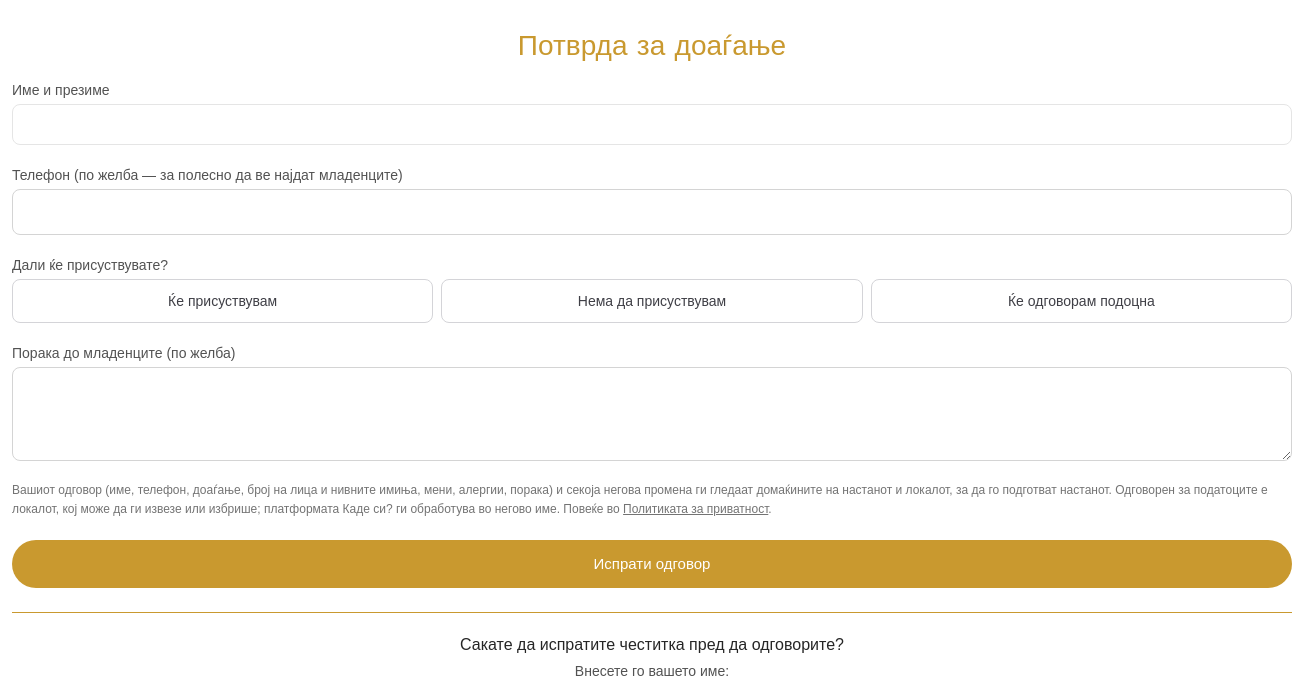
Test: greeting after the RSVP (0151) › asks for a message before sending
The image size is (1304, 693).
Type "Ана" into the field labelled "Име и презиме" at (652,124), box [12,104,1292,144]
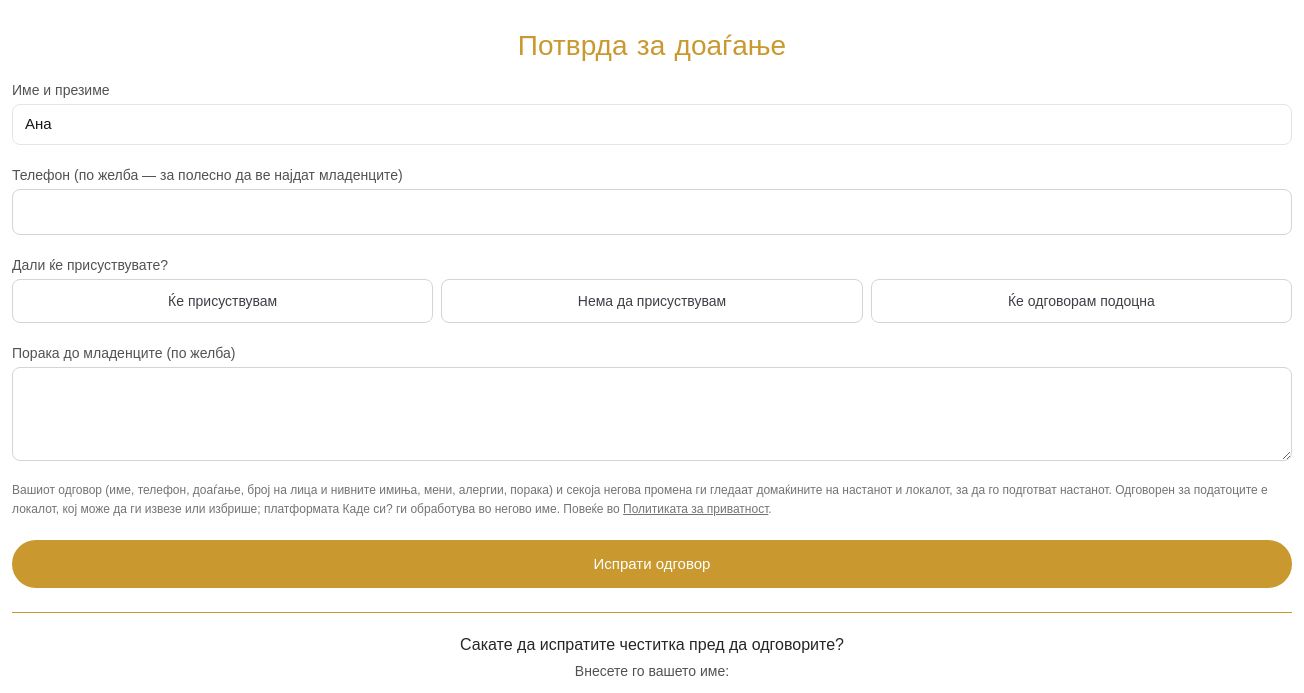
Click the button "Ќе одговорам подоцна" at (1081,300), box [871,278,1292,322]
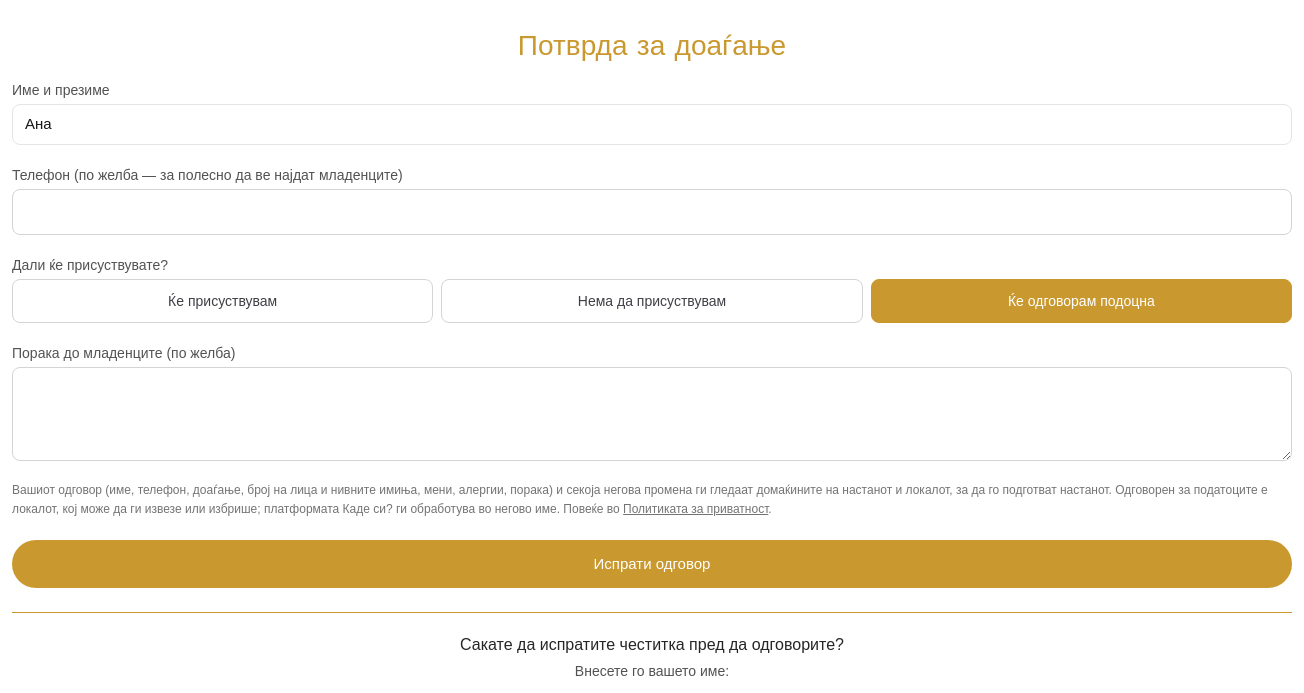
Click the button "Испрати одговор" at (652,564), box [12,540,1292,588]
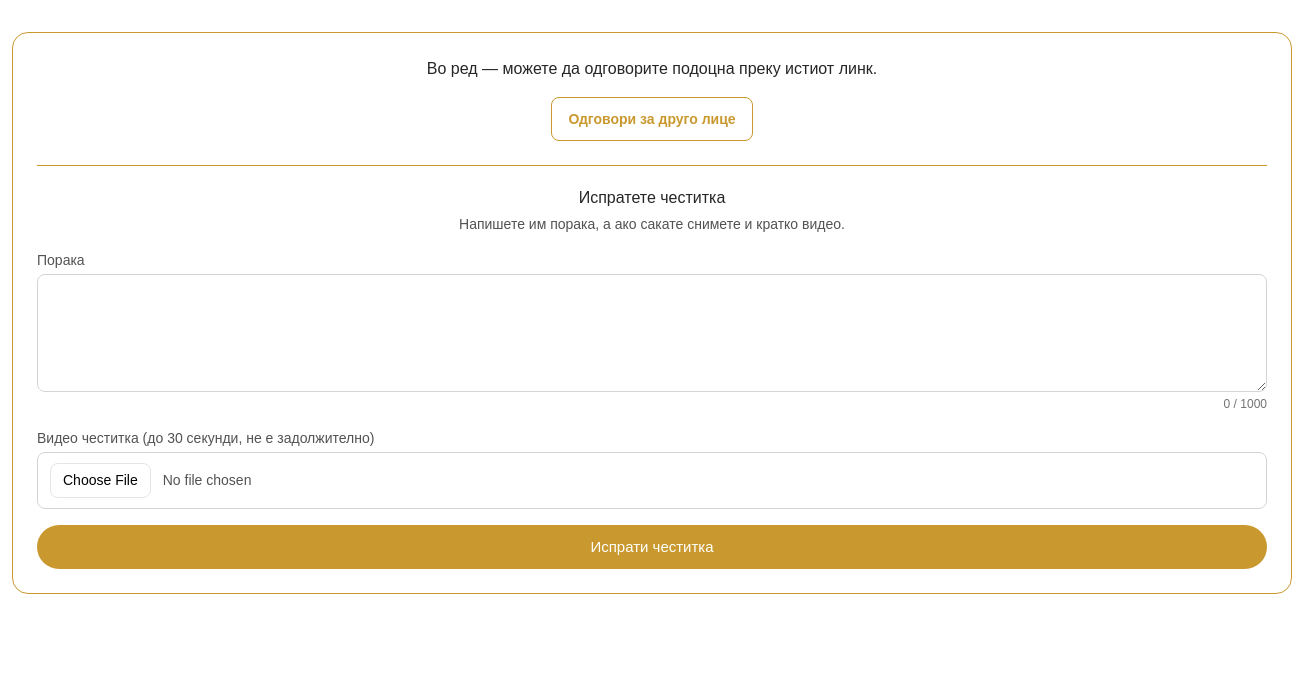
Click the button "Испрати честитка" at (652,547), box [37,525,1267,569]
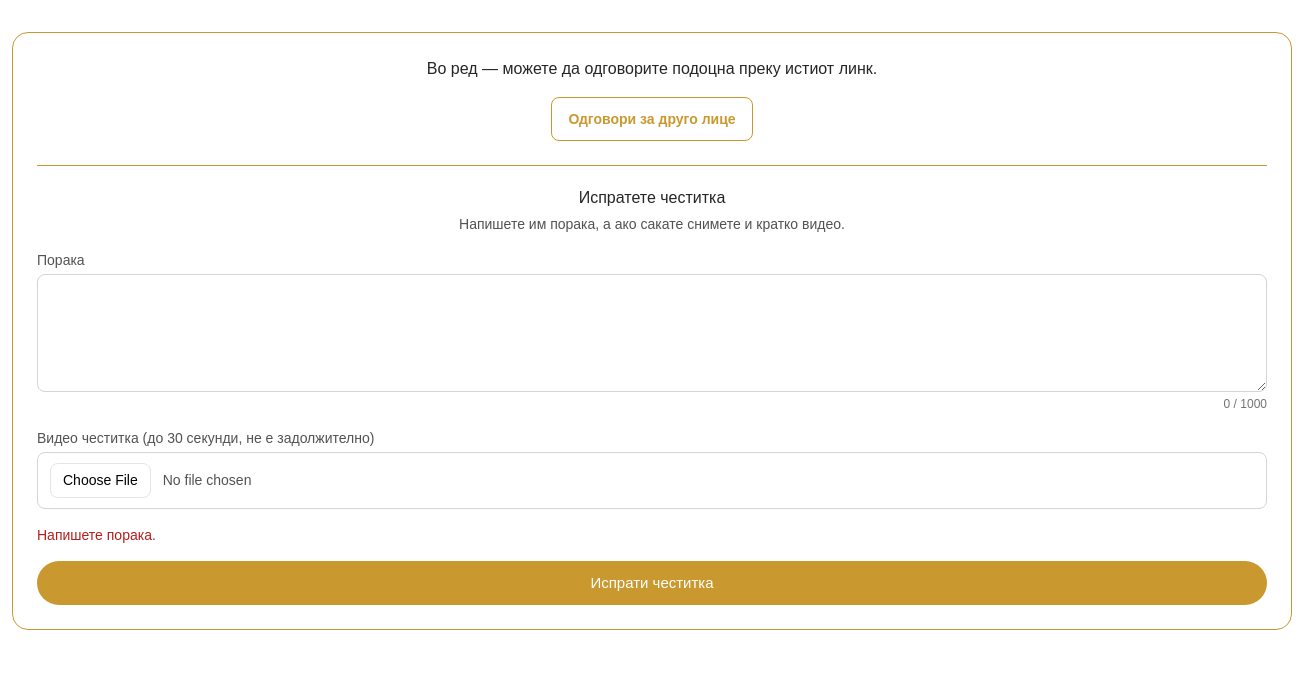
Result: the text "Напишете порака." is shown at [37,527,156,543]
